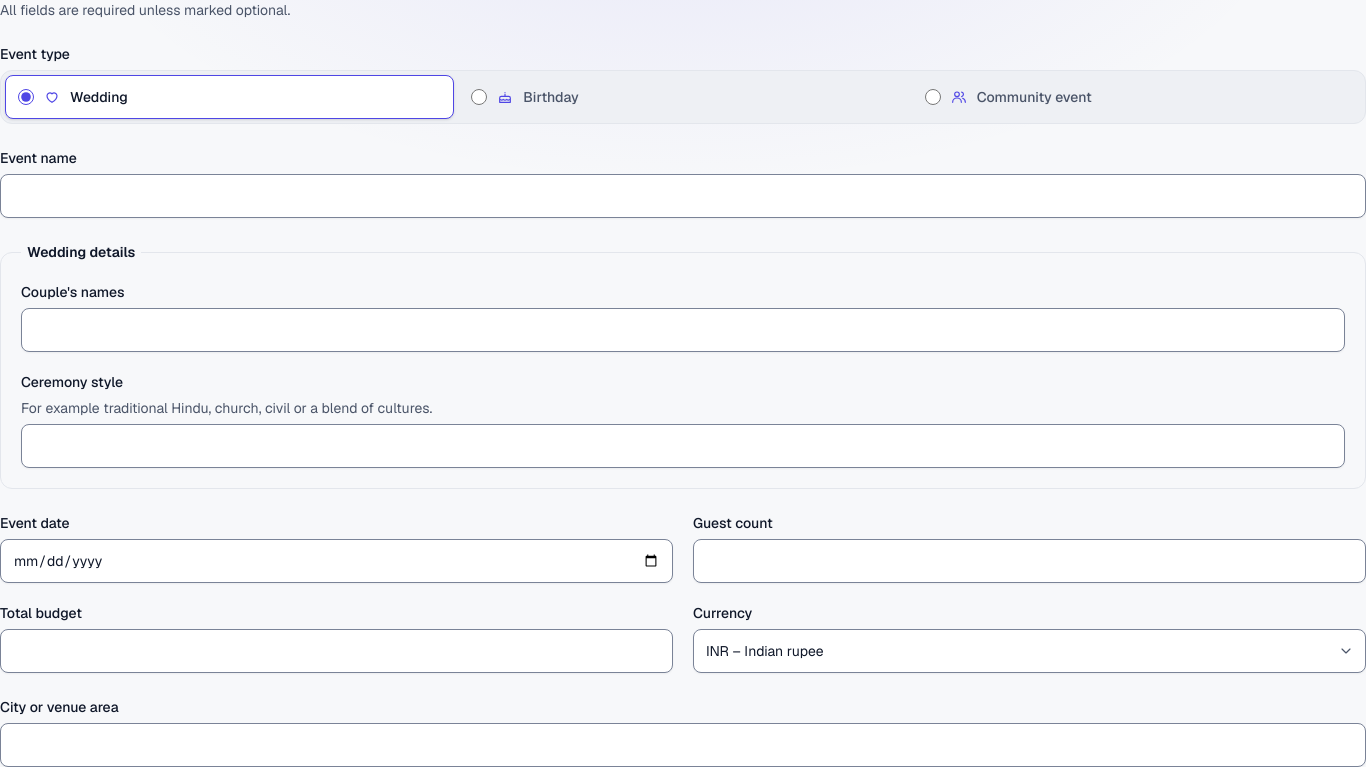
Test: IntakeForm › switches the selected event type
Click the radio button labelled "Birthday" at (479, 97), box [471, 89, 487, 105]
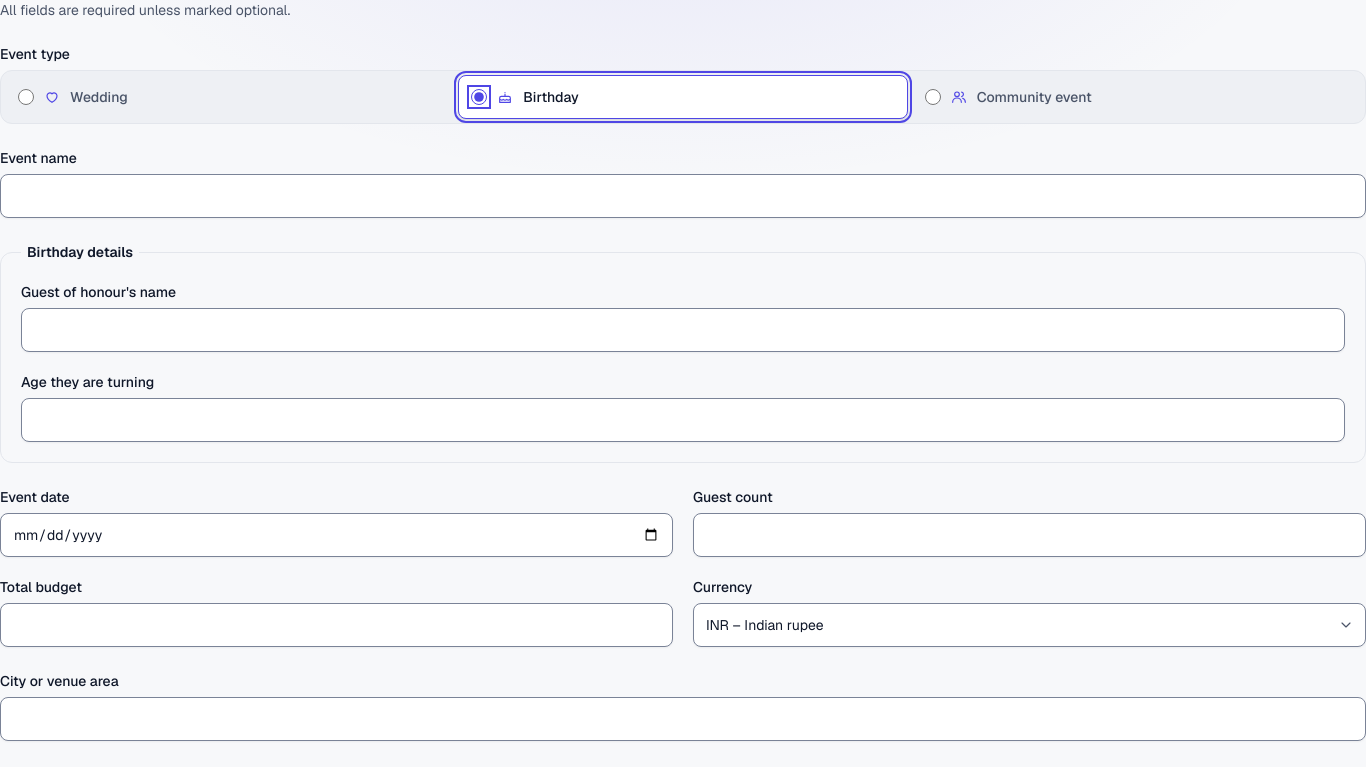
Expected: the radio button labelled "Birthday" is checked, [471, 89, 487, 105]
Expected: the radio button labelled "Wedding" is not checked, [18, 89, 34, 105]
